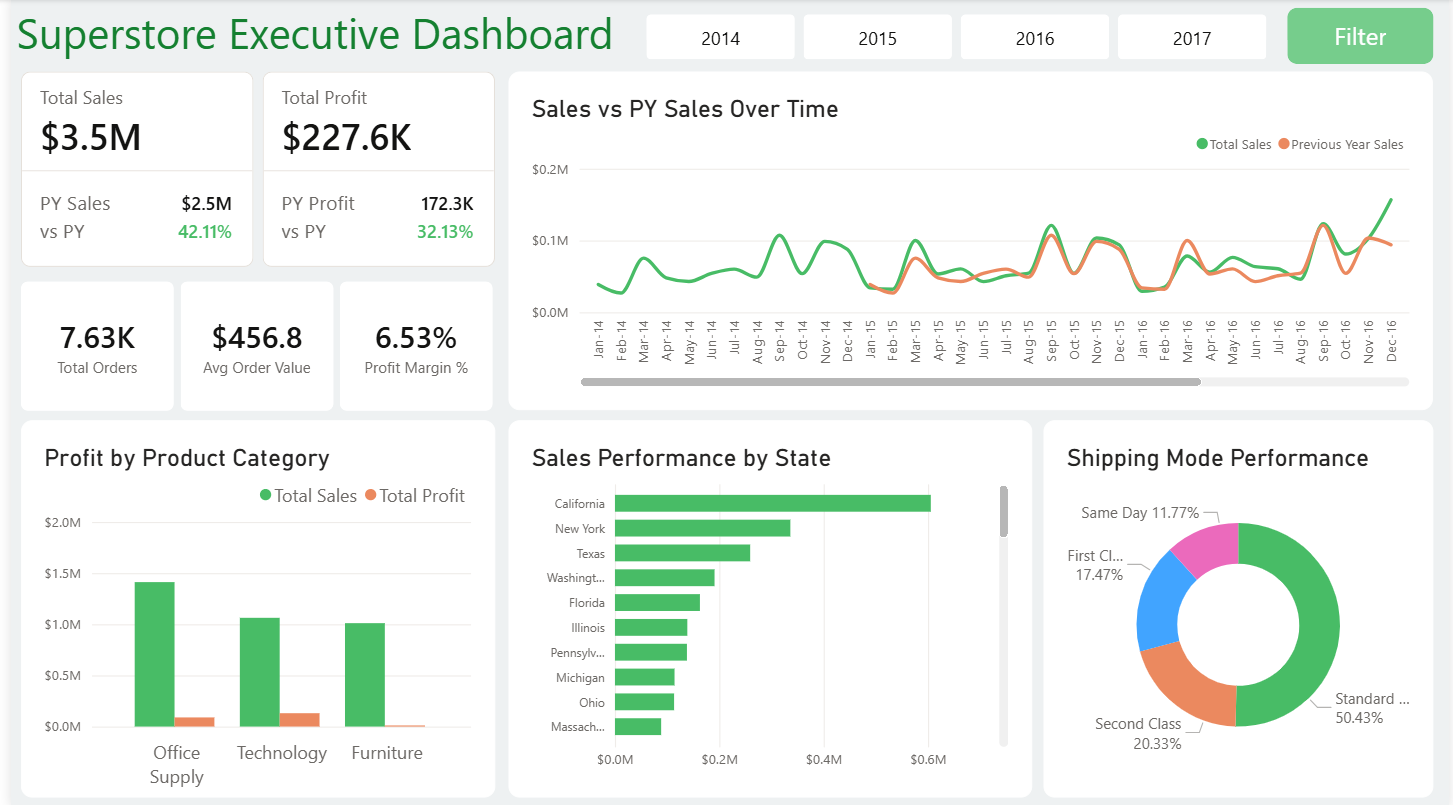

This screenshot's page, from the dashboard's own definition file:
{"tool":"powerbi","page":{"name":"Executive Overview","canvas":[1280,720],"ordinal":0},"visuals":[{"type":"textbox","box":[0,0,547.6,70],"z":0},{"type":"cardVisual","fields":{"Data":["Fact_Sales.Total Sales","Fact_Sales.Total Profit"]},"box":[8.6,64.8,422.1,174.2],"z":0,"group":"g1"},{"type":"lineChart","title":"Sales vs PY Sales Over Time","fields":{"Category":["Dim_Date.Year-Month"],"Y":["Fact_Sales.Total Sales"],"Y2":["Fact_Sales.Previous Year Sales"]},"box":[442.9,65,823.3,301.8],"z":1000},{"type":"cardVisual","fields":{"Data":["Fact_Sales.Total Orders","Fact_Sales.Avg Order Value","Fact_Sales.Profit Margin %"]},"box":[8.6,251.3,422.1,115.3],"z":1000,"group":"g1"},{"type":"clusteredColumnChart","title":"Profit by Product Category","fields":{"Category":["Dim_Product.Category"],"Y":["Fact_Sales.Total Sales","Fact_Sales.Total Profit"]},"box":[8.8,375.5,422.1,336.2],"z":2000},{"type":"barChart","title":"Sales Performance by State","fields":{"Category":["Dim_State.State"],"Y":["Fact_Sales.Total Sales"]},"box":[443.2,375.5,466.3,336.2],"z":3000},{"type":"donutChart","title":"Shipping Mode Performance","fields":{"Y":["Fact_Sales.Total Sales"],"Category":["Dim_ShipMode.Ship Mode"]},"box":[919.3,375.5,347.2,336.2],"z":4000},{"type":"advancedSlicerVisual","fields":{"Values":["Dim_Date.Year"]},"box":[558.8,7.8,565.5,50.1],"z":5000},{"type":"group","id":"g1","title":"Group 1","box":[8.6,64.8,422.1,301.8],"z":6000},{"type":"actionButton","title":"Filter Button","box":[1136.6,7.8,130.2,50.1],"z":7000}]}

Visuals, with their boxes in screenshot pixels (x1, y1, x2, y2), scaled from the page's 1280x720 canvas onto the 1453x805 screenshot:
textbox: crop(0, 0, 622, 78)
cardVisual - Fact_Sales.Total Sales x Fact_Sales.Total Profit: crop(10, 72, 489, 267)
"Sales vs PY Sales Over Time" lineChart: crop(503, 73, 1437, 410)
cardVisual - Fact_Sales.Total Orders x Fact_Sales.Avg Order Value: crop(10, 281, 489, 410)
"Profit by Product Category" clusteredColumnChart: crop(10, 420, 489, 796)
"Sales Performance by State" barChart: crop(503, 420, 1032, 796)
"Shipping Mode Performance" donutChart: crop(1044, 420, 1438, 796)
advancedSlicerVisual - Dim_Date.Year: crop(634, 9, 1276, 65)
"Group 1" group: crop(10, 72, 489, 410)
"Filter Button" actionButton: crop(1290, 9, 1438, 65)
